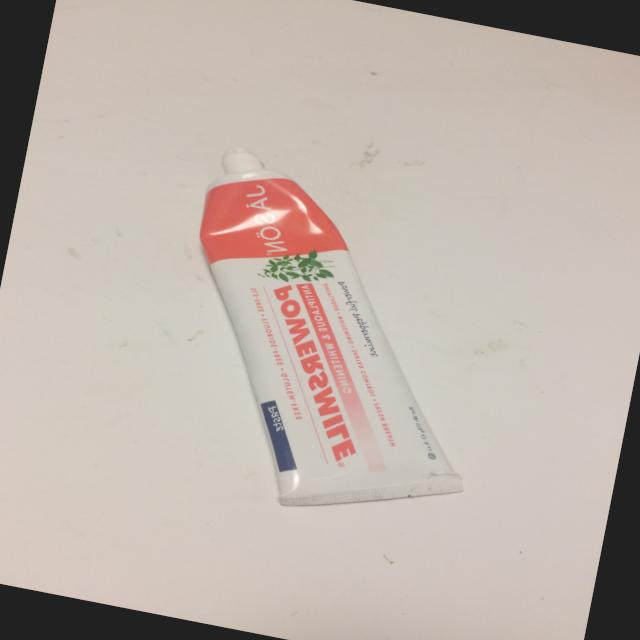Plastic: (126, 121, 518, 556)
